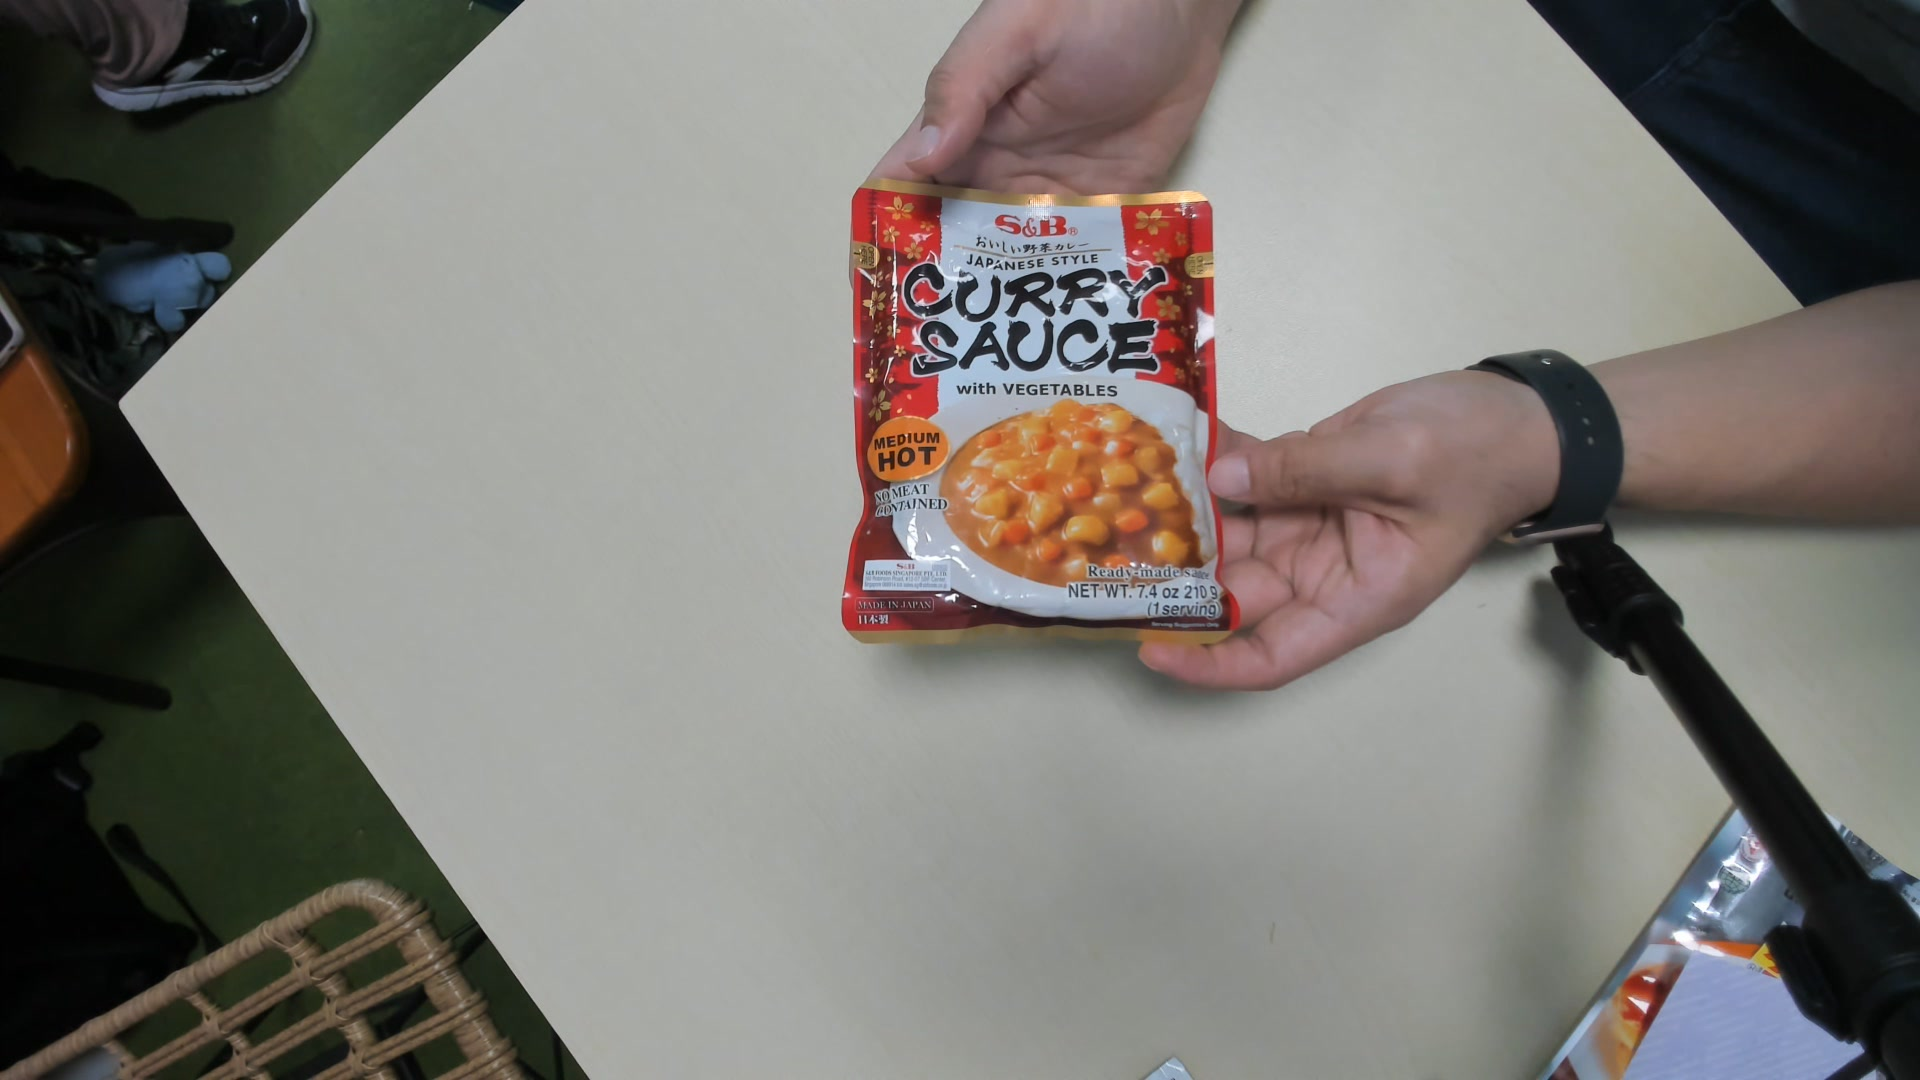CurryPastePowderSauce_200-299g_NonHalal_NonHealthy: (848, 175, 1236, 653)
